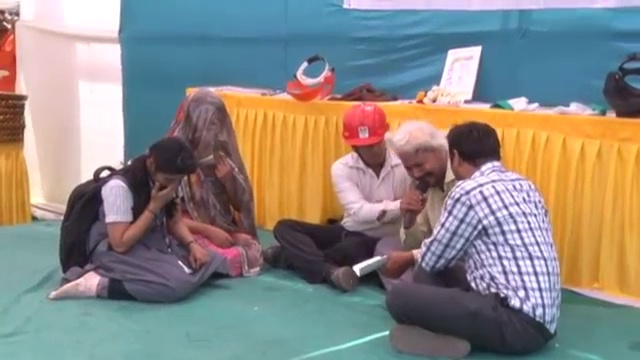helmet: (340, 103, 395, 153)
helmet_off: (391, 120, 448, 197), (444, 122, 508, 190), (176, 90, 233, 163), (138, 134, 195, 190), (0, 5, 13, 35)
helmet_on: (340, 105, 395, 174)
person: (388, 122, 561, 353), (48, 126, 231, 298), (268, 102, 417, 279), (164, 85, 261, 278), (368, 119, 461, 296), (0, 9, 21, 95)
